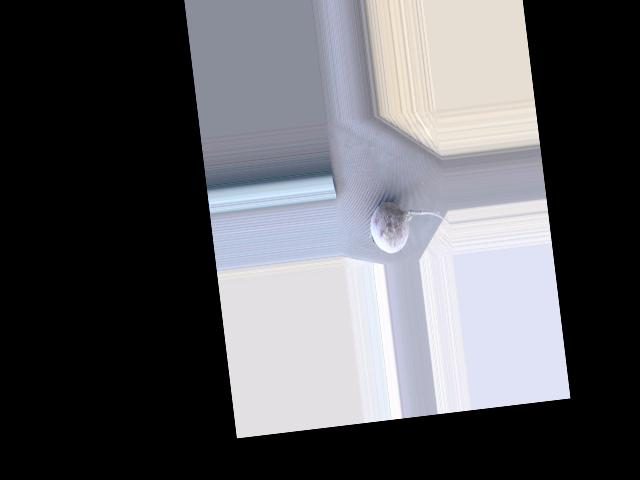beet: (367, 195, 451, 254)
